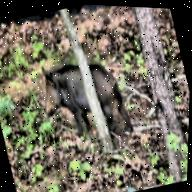boar: (20, 21, 140, 160)
